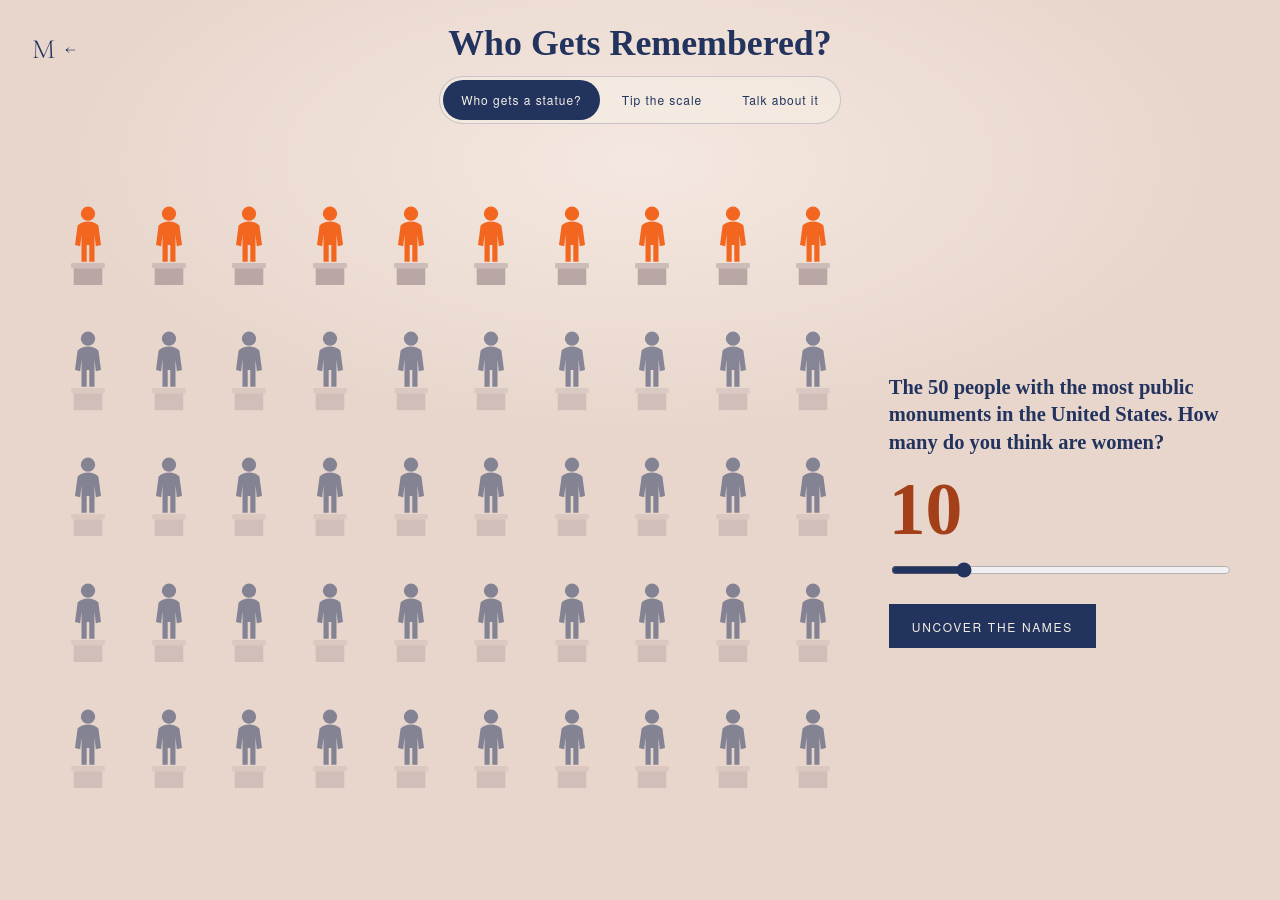
Test case: the room › uncovers the names after a guess, and names the three women
Expected: the text "Abraham Lincoln" is not shown
Set the slider named "Your guess: how many are women?" to "7". click: (944, 570)
box: [891,554,1231,586]
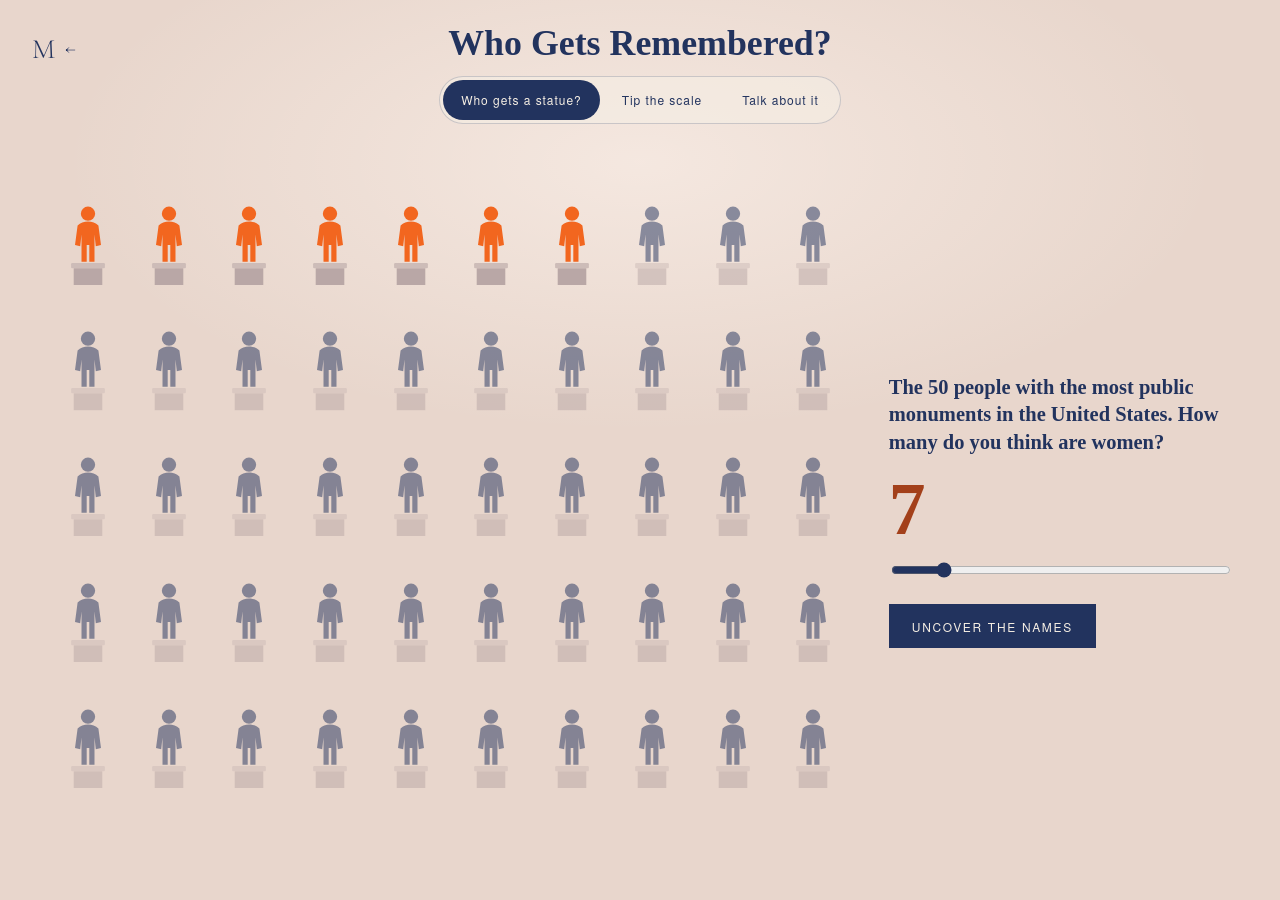
Click the button "Uncover the names". click: (992, 626)
box: [889,604,1096,648]
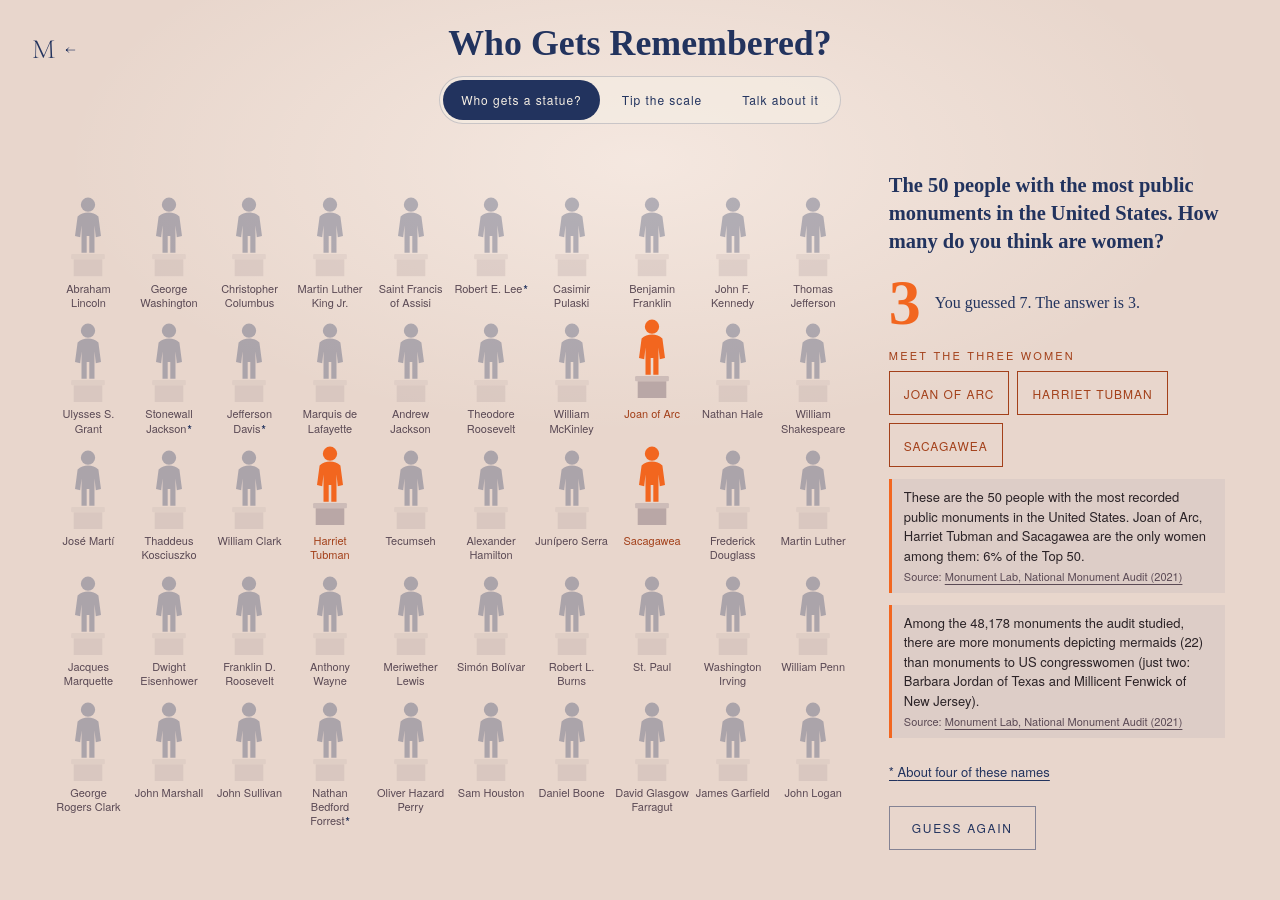
Expected: the list named "50 people" is shown, [51,193,850,829]
Expected: the text "Abraham Lincoln" is shown, [66,280,111,310]
Expected: the number of links "Monument Lab, National Monument Audit (2021)" is 2, [945,568,1182,584]; [945,713,1182,729]
Click the button "Guess again". click: (962, 828)
box: [889,806,1036,850]
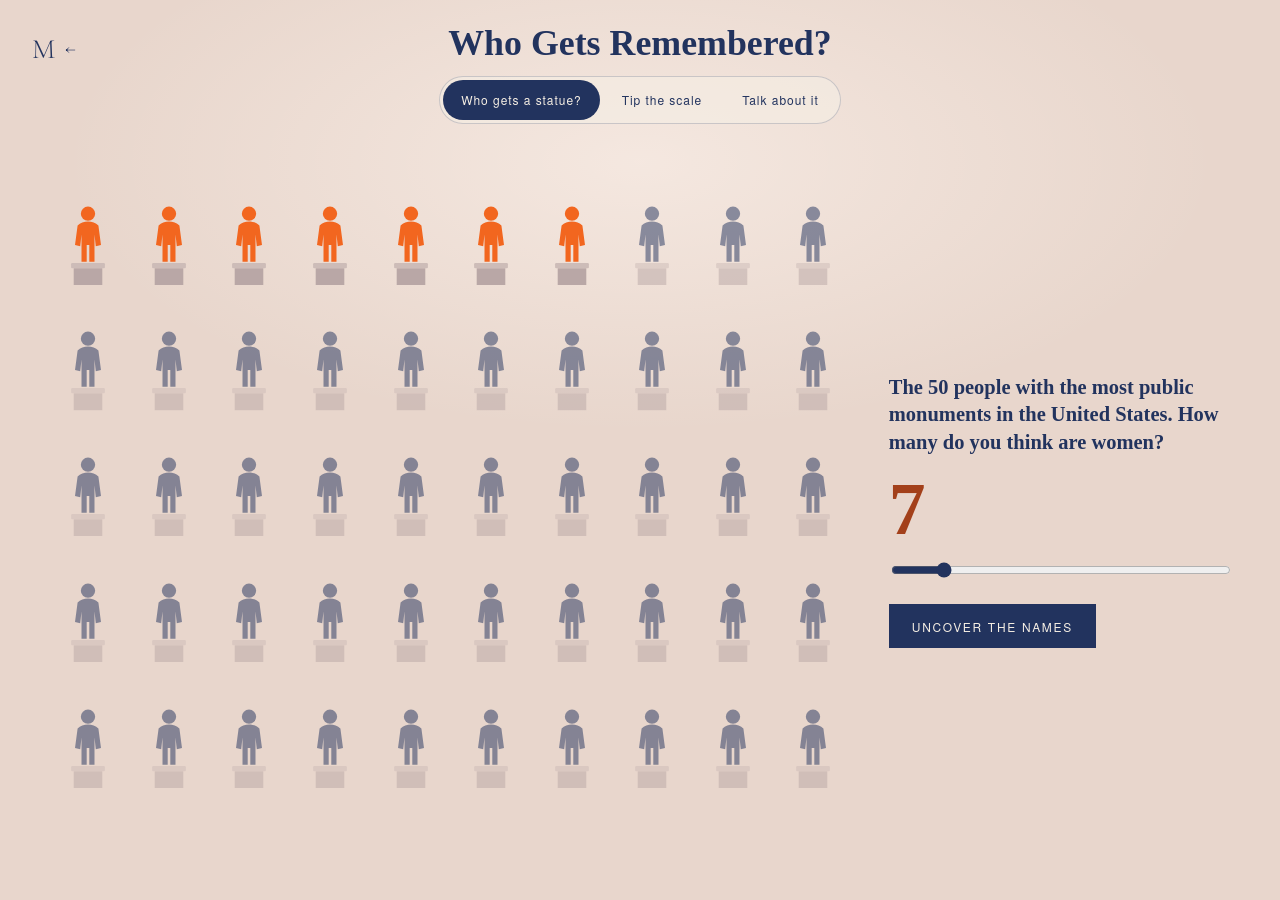
Expected: the text "Abraham Lincoln" is gone
